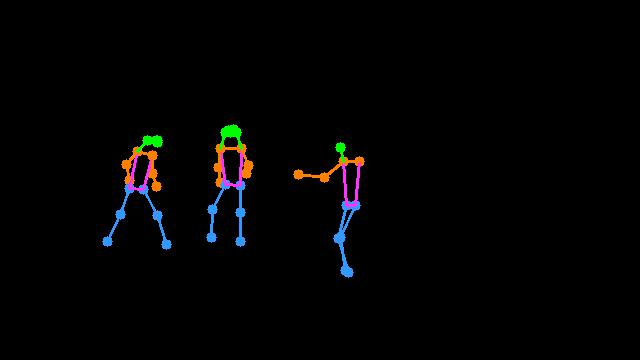normal: (279, 115, 389, 289), (82, 121, 179, 267), (196, 116, 261, 254)
